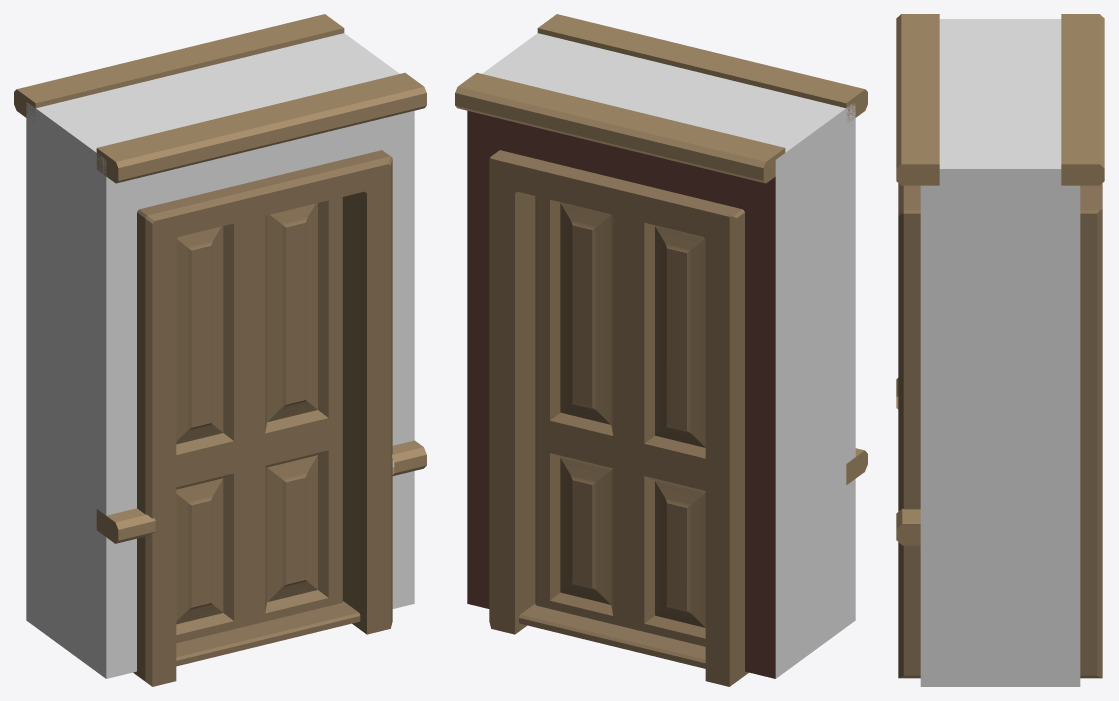
The model's file is wall_door_01.fbx.
3 renders of one model, left to right at view 1: azimuth 30°, elevation 25°; view 2: azimuth 150°, elevation 25°; view 3: azimuth 270°, elevation 25°, orthographic.
Parts seen in each view (by area): view 1: pCube605, polySurface64; view 2: pCube605, polySurface64, polySurface65; view 3: polySurface64, pCube605.
Boxes of the visible parts, x1=… form: pCube605: x1=14, y1=14, x2=426, y2=686; polySurface64: x1=26, y1=33, x2=414, y2=678; pCube605: x1=455, y1=14, x2=867, y2=686; polySurface64: x1=482, y1=33, x2=855, y2=678; polySurface65: x1=467, y1=111, x2=775, y2=678; polySurface64: x1=920, y1=19, x2=1080, y2=686; pCube605: x1=896, y1=14, x2=1104, y2=678.
Bounding box in the file's own units: 10 × 16.49 × 5.86.
